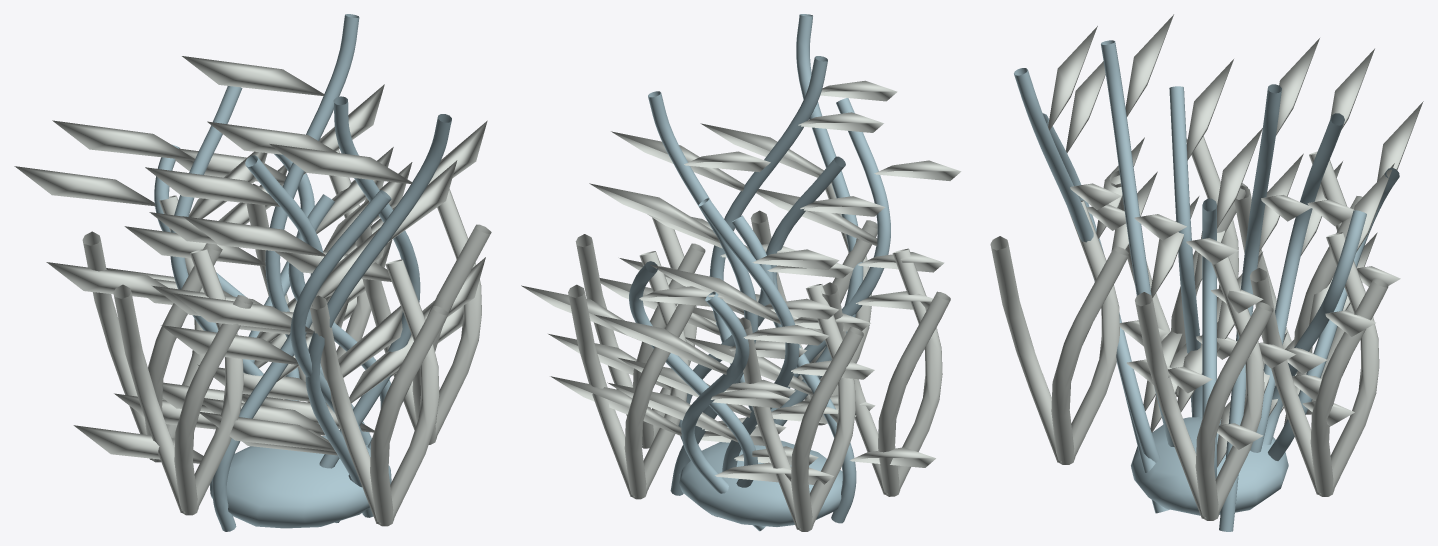
Rendered from bio_aquatic_frond_14_far.glb.
3 renders of one model, left to right at view 1: azimuth 30°, elevation 25°; view 2: azimuth 150°, elevation 25°; view 3: azimuth 270°, elevation 25°, orthographic. The views are drawn at different scales.
Parts seen in each view (by area): view 1: Spiral filament.006, Spiral filament.012, Ruffled aquatic blade.010, Holdfast, Ruffled aquatic blade.035, Ruffled aquatic blade.040, Spiral filament, Ruffled aquatic blade.005, Ruffled aquatic blade.020, Ruffled aquatic blade.025, Flexible stipe.002, Spiral filament.003 (+12 smaller); view 2: Spiral filament.003, Spiral filament.012, Spiral filament.009, Ruffled aquatic blade.030, Holdfast, Ruffled aquatic blade.005, Spiral filament, Ruffled aquatic blade.015, Ruffled aquatic blade.020, Ruffled aquatic blade.025, Ruffled aquatic blade.040, Ruffled aquatic blade.010 (+12 smaller); view 3: Spiral filament.006, Spiral filament, Spiral filament.009, Holdfast, Ruffled aquatic blade.025, Flexible stipe.008, Flexible stipe.004, Flexible stipe.005, Ruffled aquatic blade.010, Flexible stipe.001, Ruffled aquatic blade, Ruffled aquatic blade.040 (+12 smaller).
Boxes of the visible parts, x1,y1,x2,y2 form: Spiral filament.006: (310,259,448,526); Spiral filament.012: (113,249,253,515); Ruffled aquatic blade.010: (171,144,457,451); Holdfast: (209,436,391,528); Ruffled aquatic blade.035: (161,216,413,455); Ruffled aquatic blade.040: (124,56,392,403); Spiral filament: (355,189,491,444); Ruffled aquatic blade.005: (46,120,296,412); Ruffled aquatic blade.020: (73,162,412,463); Ruffled aquatic blade.025: (202,120,487,435); Flexible stipe.002: (305,114,451,517); Spiral filament.003: (82,195,222,462); Spiral filament.003: (739,284,863,531); Spiral filament.012: (822,248,950,496); Spiral filament.009: (568,251,695,499); Ruffled aquatic blade.030: (550,314,828,482); Holdfast: (678,440,842,526); Ruffled aquatic blade.005: (618,249,874,465); Spiral filament: (575,217,705,448); Ruffled aquatic blade.015: (521,285,833,484); Ruffled aquatic blade.020: (647,196,935,467); Ruffled aquatic blade.025: (599,112,883,422); Ruffled aquatic blade.040: (589,151,838,435); Ruffled aquatic blade.010: (700,80,944,410); Spiral filament.006: (990,200,1128,464); Spiral filament: (1135,256,1273,520); Spiral filament.009: (1249,232,1388,496); Holdfast: (1131,417,1288,515); Ruffled aquatic blade.025: (1125,14,1218,411); Flexible stipe.008: (1219,84,1281,531); Flexible stipe.004: (1169,86,1202,417); Flexible stipe.005: (1101,40,1174,446); Ruffled aquatic blade.010: (1048,26,1182,410); Flexible stipe.001: (1250,113,1344,452); Ruffled aquatic blade: (1211,128,1263,467); Ruffled aquatic blade.040: (1245,38,1319,399).
Size of the model in its own units: 1.79 by 1.89 by 1.64.
